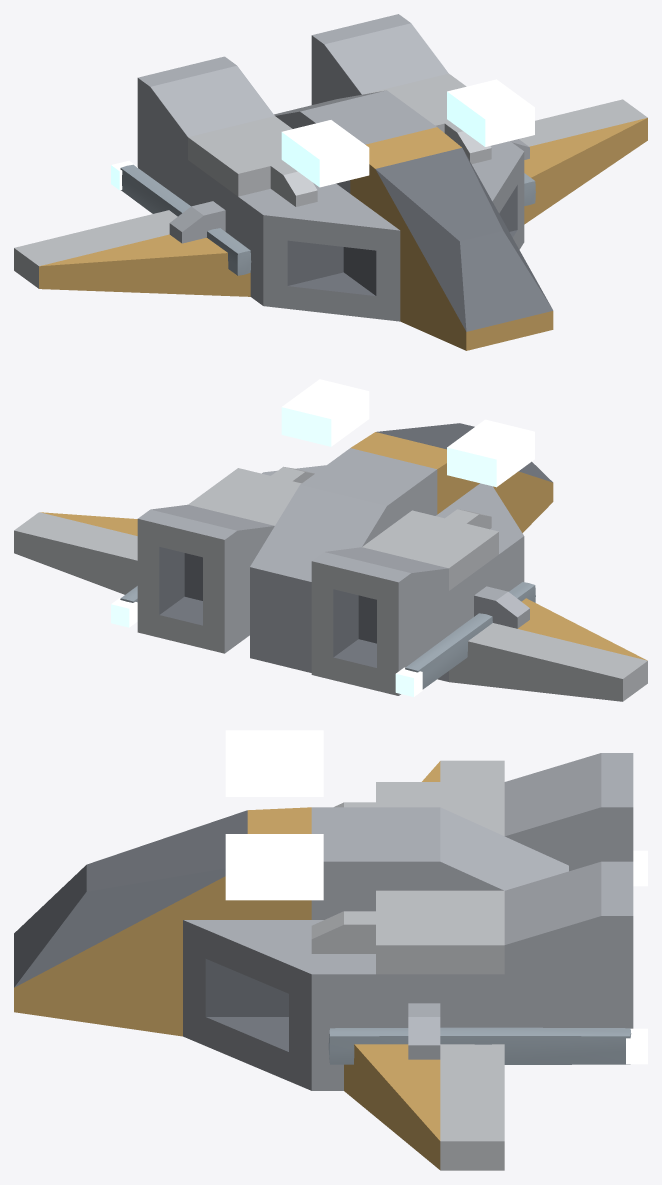
Rendered from npc_police.glb.
3 renders of one model, top to bottom at view 1: azimuth 30°, elevation 25°; view 2: azimuth 150°, elevation 25°; view 3: azimuth 270°, elevation 25°, orthographic. The views are drawn at different scales.
Parts seen in each view (by area): view 1: npc_police; view 2: npc_police; view 3: npc_police.
Boxes of the visible parts, x1=… form: npc_police: x1=14, y1=14, x2=647, y2=350; npc_police: x1=14, y1=379, x2=647, y2=701; npc_police: x1=14, y1=730, x2=647, y2=1170.
Size of the model in its own units: 1.84 by 0.4771 by 1.3.
